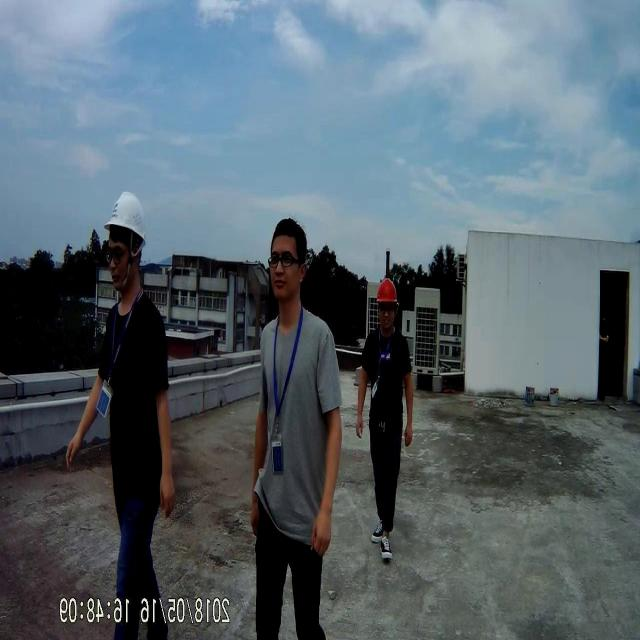face_nomask: (267, 242, 307, 300), (103, 240, 140, 295), (380, 302, 397, 334)
glasses: (268, 250, 296, 273), (104, 246, 126, 267), (378, 303, 396, 317)
hand_noglove: (310, 507, 338, 557), (158, 466, 178, 522), (62, 430, 86, 470), (245, 498, 262, 540), (354, 412, 366, 440), (403, 418, 413, 449)
head_helmet: (104, 188, 150, 244), (376, 276, 396, 304)
head_nohelmet: (268, 204, 314, 244)
person: (253, 216, 335, 636), (96, 185, 169, 633), (363, 269, 409, 558)
shoes: (379, 529, 394, 563), (368, 520, 387, 546)
